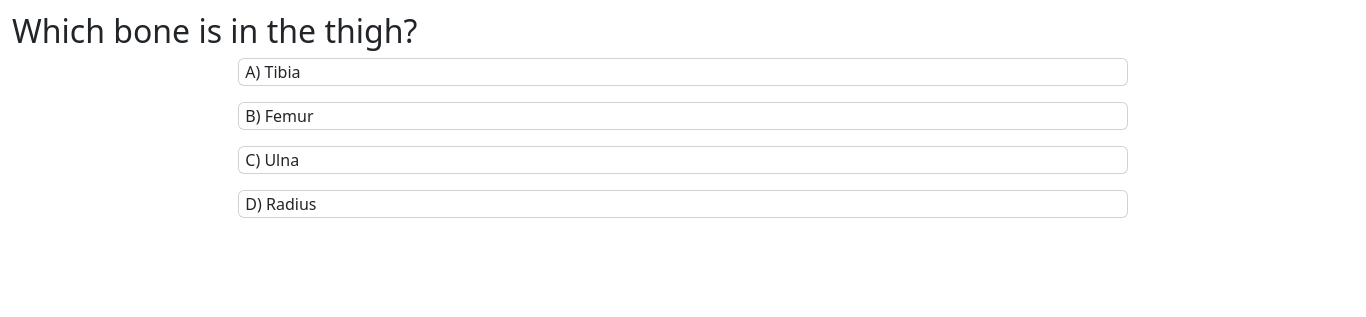
Scenario: Question page › shows an error when the current user cannot be identified
The width and height of the screenshot is (1366, 317).
Click the button "A) Tibia" at (283, 72), box [238,58,1128,86]
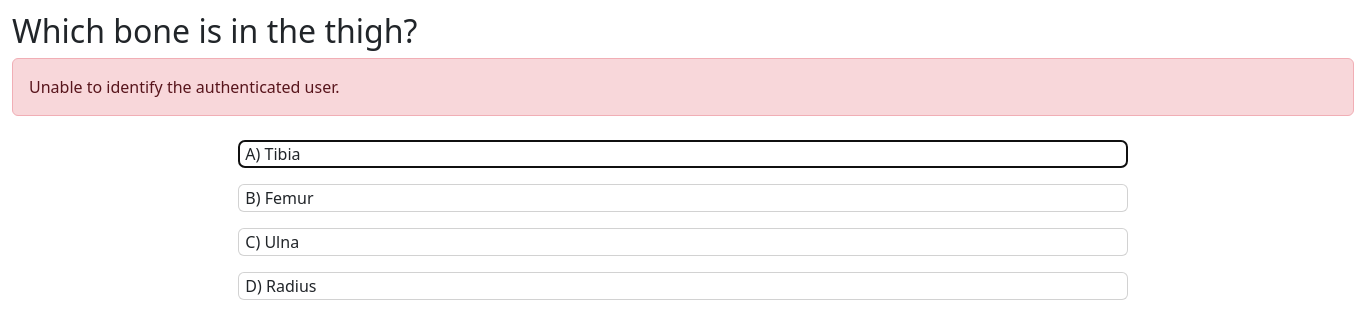
Now the text "Unable to identify the authenticated user." is shown, box [12,58,1354,116]
